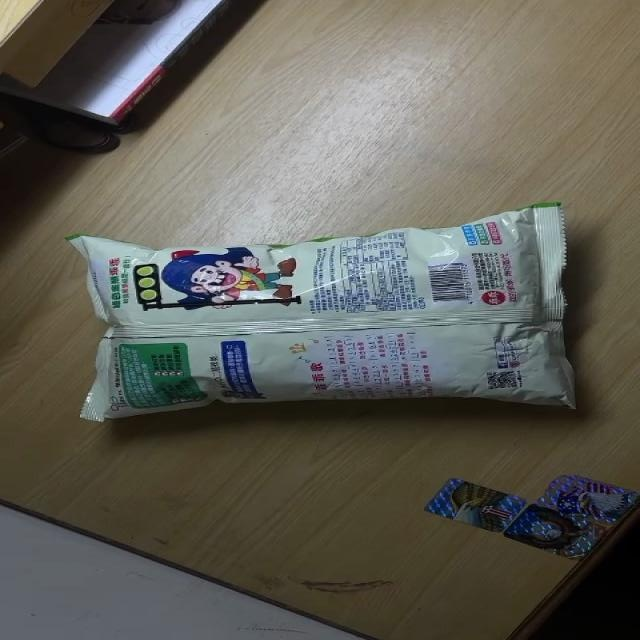Good-Luck: (64, 203, 579, 421)
